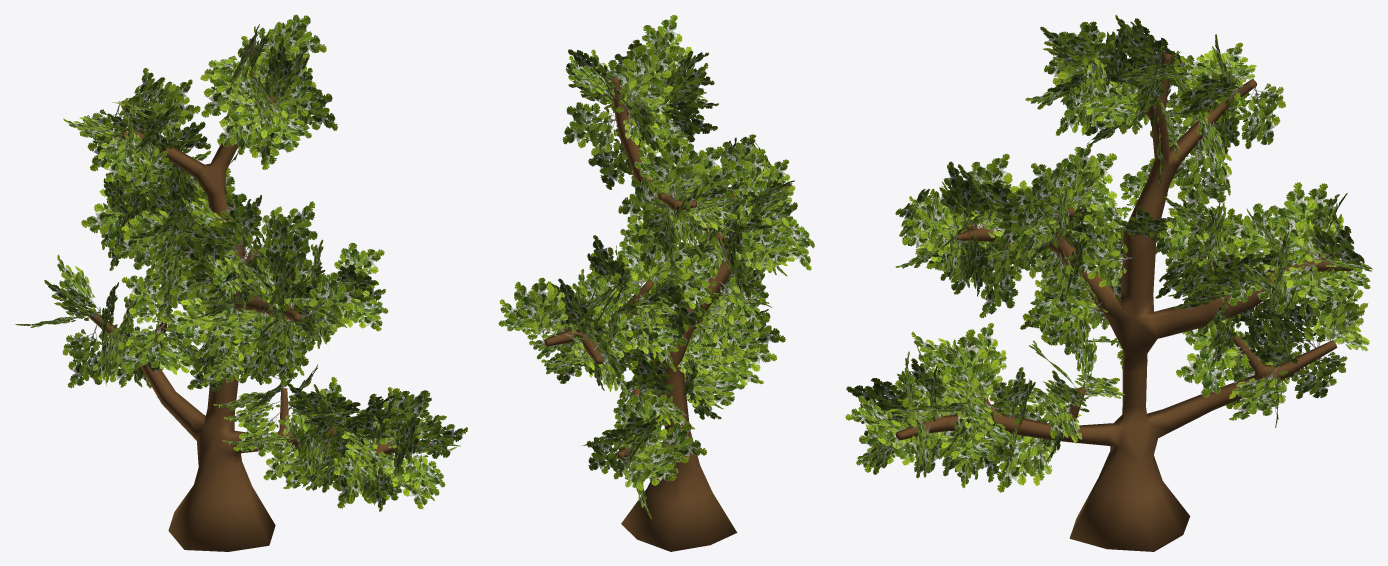
Rendered from OakOld.fbx.
The picture shows the model from 3 angles, left to right: view 1: azimuth 30°, elevation 25°; view 2: azimuth 150°, elevation 25°; view 3: azimuth 270°, elevation 25°; orthographic projection. The views are drawn at different scales.
Visible parts, largest first — view 1: Cube; view 2: Cube; view 3: Cube.
Boxes of the visible parts, box(x1,y1,x2,y2) form: Cube: box(15, 14, 467, 551); Cube: box(498, 15, 814, 551); Cube: box(845, 15, 1372, 551).
Bounding box in the file's own units: 331 × 610 × 551.
